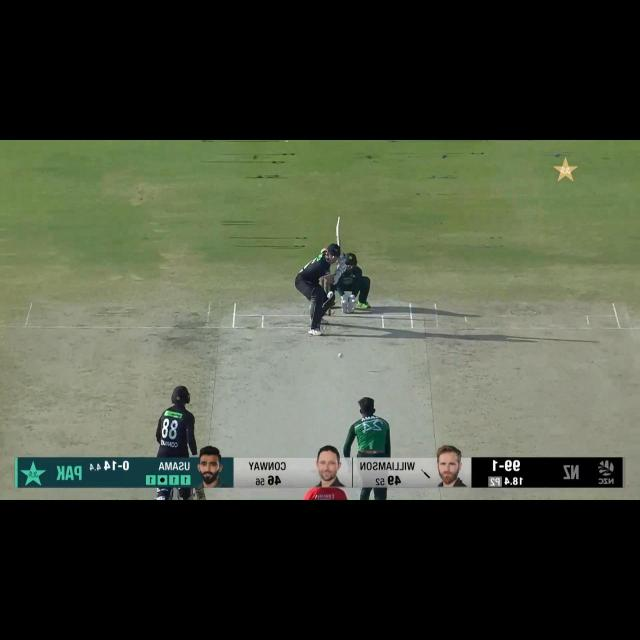bat: (330, 216, 347, 247), (193, 486, 209, 502)
toe: (331, 216, 346, 228), (197, 494, 206, 500)
